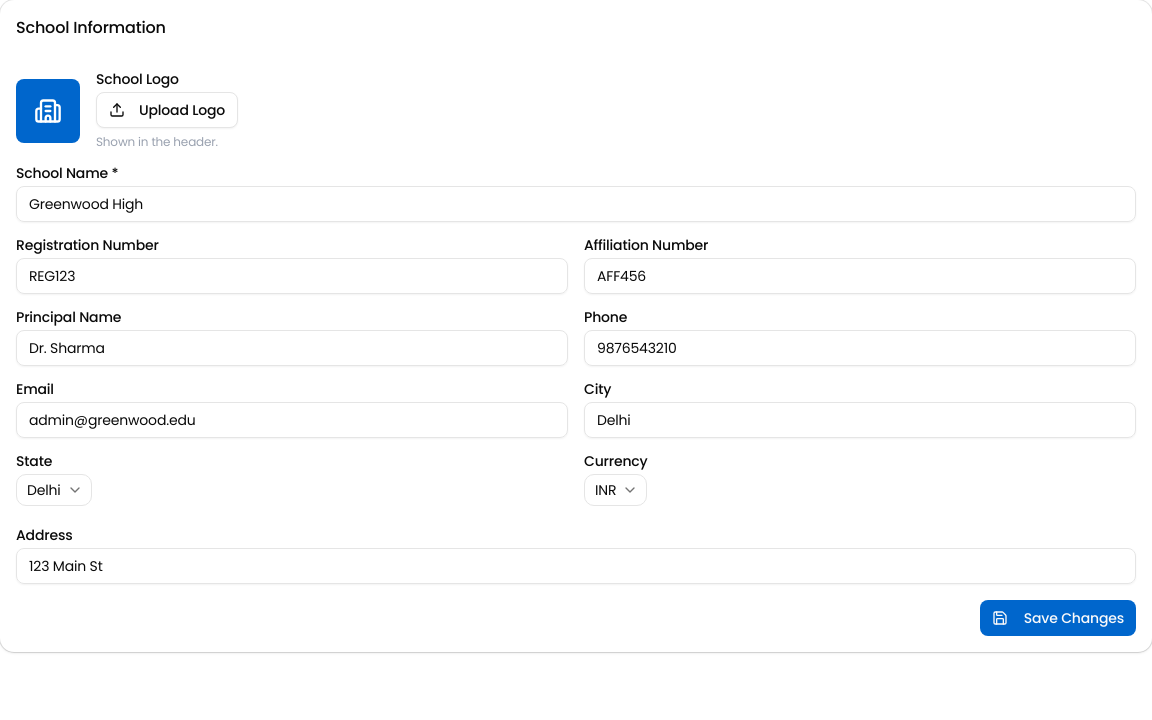
Scenario: SchoolInfoForm › shows a validation error and does not submit when name is cleared
The width and height of the screenshot is (1152, 720).
Clear the field showing "Greenwood High" below "School Name *" at (576, 204), box [16, 186, 1136, 222]
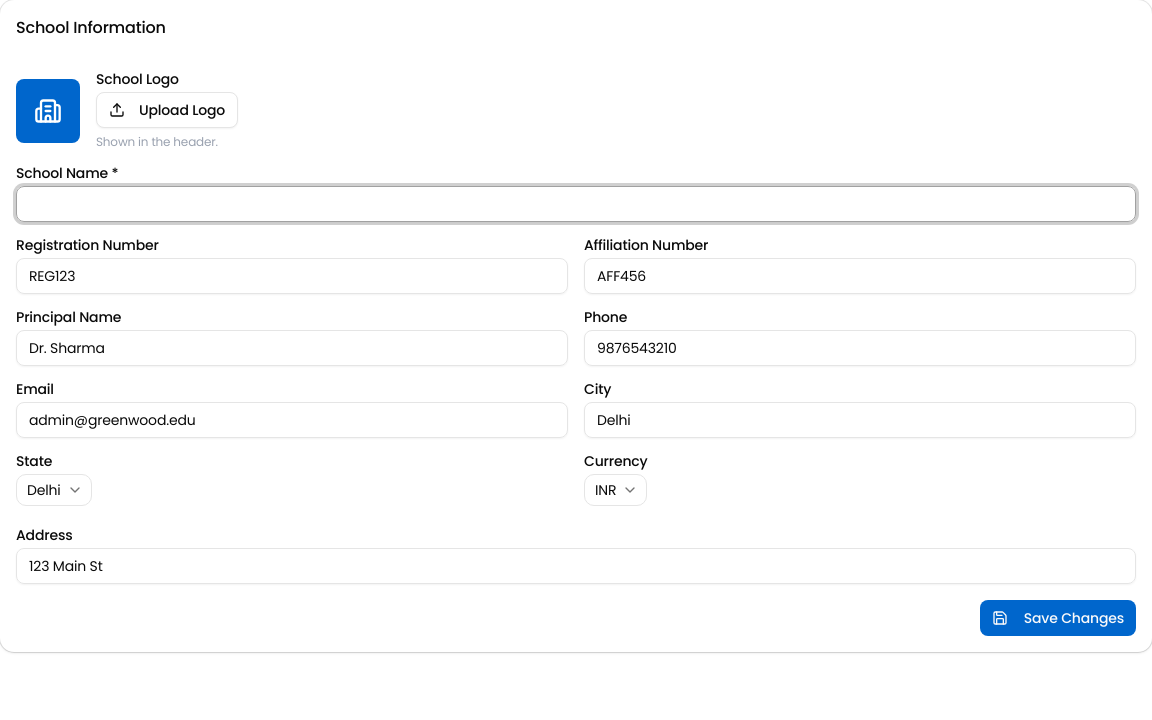
Click the button "Save Changes" at (1058, 618), box [980, 600, 1136, 636]
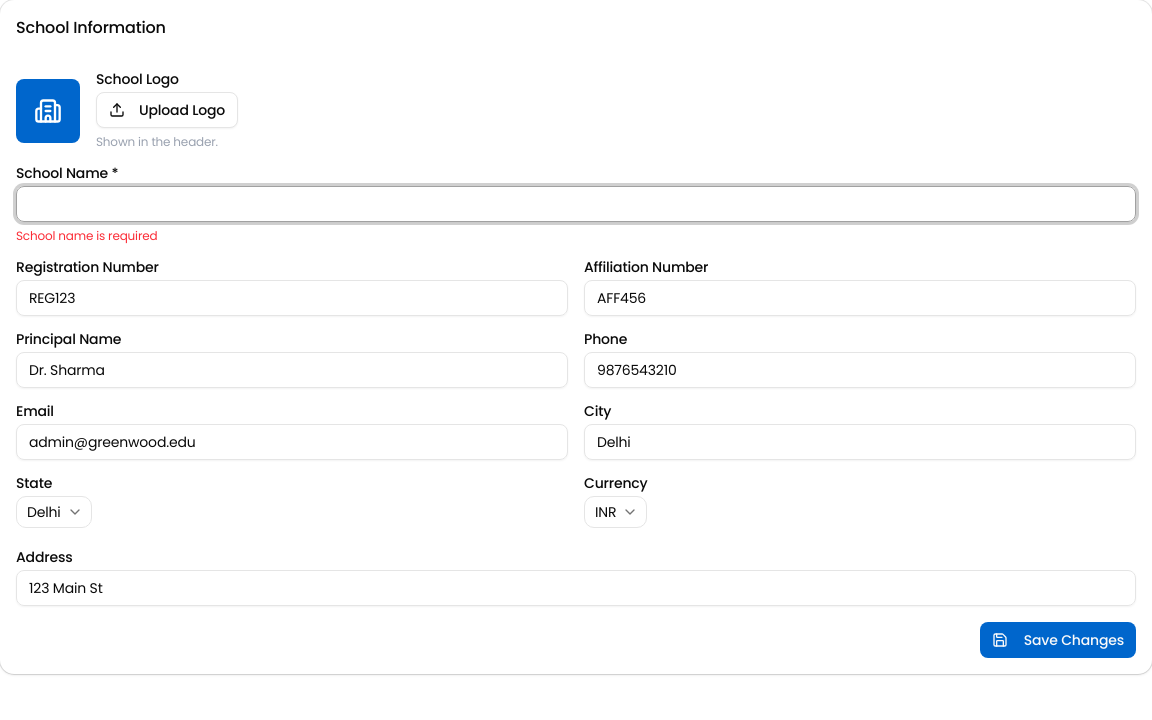
Check: the text "School name is required" is shown, box [16, 227, 157, 244]
